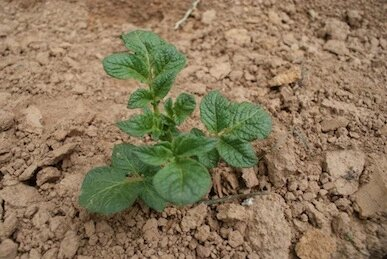potato_plant: (73, 28, 272, 211)
